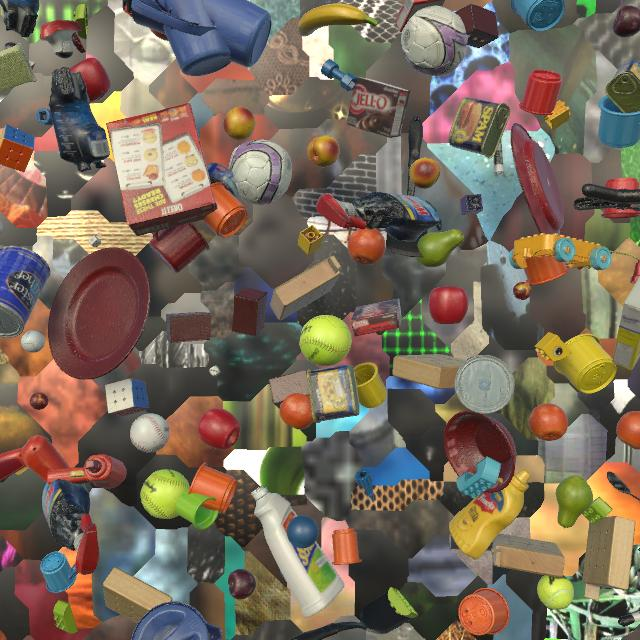ycb_002_master_chef_can: (0, 245, 50, 338), (454, 355, 515, 414)
ycb_003_cracker_box: (106, 103, 218, 236)
ycb_004_sugar_box: (612, 276, 640, 370)
ycb_006_mustard_bottle: (449, 469, 531, 560)
ycb_007_tuna_fish_can: (207, 163, 239, 199)
ycb_008_pudding_box: (347, 77, 410, 138), (350, 298, 401, 337)
ycb_009_gelatin_box: (395, 0, 445, 32)
ycb_010_potted_meat_can: (448, 97, 510, 158), (307, 364, 360, 423), (605, 60, 640, 125)
ycb_011_banana: (298, 4, 378, 37)
ycb_013_apple: (70, 57, 111, 103), (198, 408, 240, 449), (429, 286, 469, 324)
ycb_015_peach: (223, 107, 256, 141), (307, 135, 340, 167), (409, 158, 441, 189)
ycb_016_pear: (556, 475, 593, 528), (415, 229, 464, 268)
ycb_017_orange: (529, 403, 568, 441), (348, 228, 386, 265), (279, 393, 314, 429), (616, 411, 640, 450), (150, 28, 168, 41)
ycb_018_plum: (612, 5, 640, 38), (228, 569, 256, 600)
